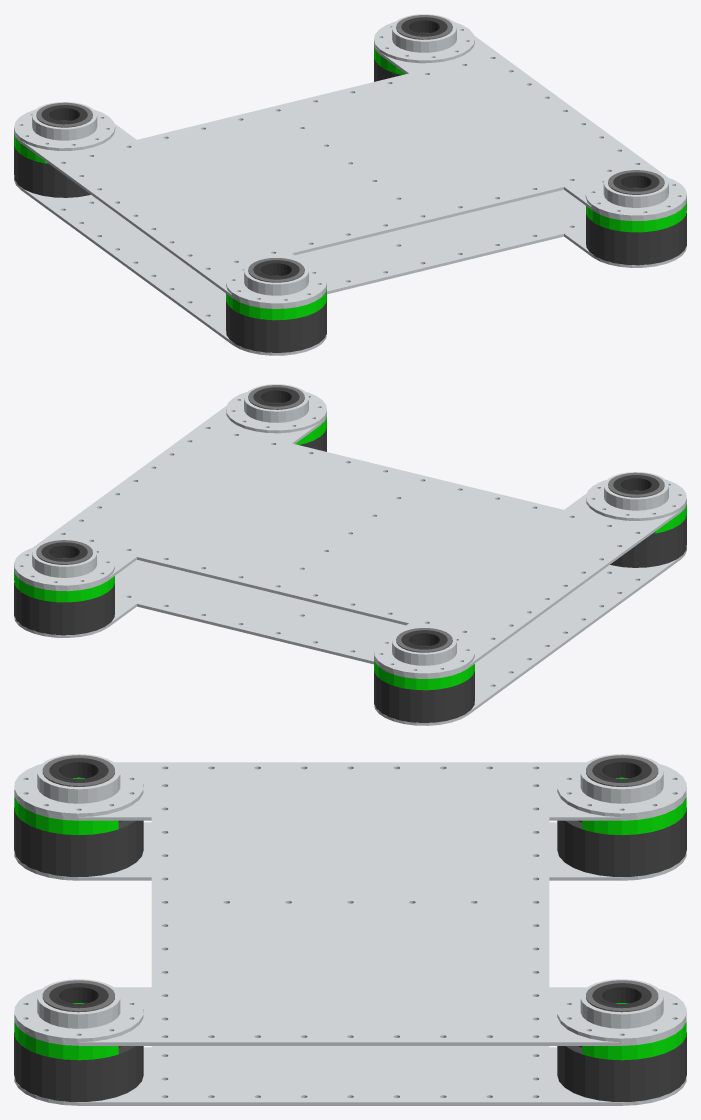
The picture shows the model from 3 angles, top to bottom: view 1: azimuth 30°, elevation 25°; view 2: azimuth 150°, elevation 25°; view 3: azimuth 270°, elevation 25°; orthographic projection. The views are drawn at different scales.
Visible parts, largest first — view 1: node1, node0, node14, node18, node4, node13, node7, node10, node22, node3, node6, node24 (+3 smaller); view 2: node1, node0, node26, node22, node10, node4, node13, node7, node18, node12, node9, node28 (+3 smaller); view 3: node1, node0, node18, node22, node14, node26, node4, node10, node13, node7, node9, node6 (+10 smaller).
Part boxes in pixels (bbox=[...]): node1: bbox=[14, 35, 686, 308]; node0: bbox=[14, 177, 686, 355]; node14: bbox=[586, 187, 686, 265]; node18: bbox=[226, 275, 326, 352]; node4: bbox=[585, 169, 686, 218]; node13: bbox=[374, 14, 474, 63]; node7: bbox=[226, 257, 326, 305]; node10: bbox=[14, 102, 115, 150]; node22: bbox=[14, 120, 90, 197]; node3: bbox=[586, 200, 686, 232]; node6: bbox=[226, 288, 326, 320]; node24: bbox=[41, 105, 87, 124]; node1: bbox=[14, 405, 686, 678]; node0: bbox=[14, 547, 686, 725]; node26: bbox=[14, 557, 114, 635]; node22: bbox=[374, 645, 474, 722]; node10: bbox=[374, 627, 474, 676]; node4: bbox=[226, 384, 326, 433]; node13: bbox=[14, 539, 114, 588]; node7: bbox=[586, 472, 686, 520]; node18: bbox=[610, 490, 686, 567]; node12: bbox=[14, 570, 114, 602]; node9: bbox=[374, 658, 474, 690]; node28: bbox=[41, 542, 87, 561]; node1: bbox=[14, 762, 686, 1045]; node0: bbox=[14, 822, 686, 1105]; node18: bbox=[14, 807, 143, 876]; node22: bbox=[557, 807, 686, 876]; node14: bbox=[14, 1032, 143, 1101]; node26: bbox=[557, 1032, 686, 1101]; node4: bbox=[14, 979, 143, 1042]; node10: bbox=[557, 754, 686, 816]; node13: bbox=[557, 979, 686, 1042]; node7: bbox=[14, 754, 143, 816]; node9: bbox=[582, 777, 686, 835]; node6: bbox=[14, 777, 118, 835].
Size of the model in its own units: 0.5 by 0.508 by 0.0735.
